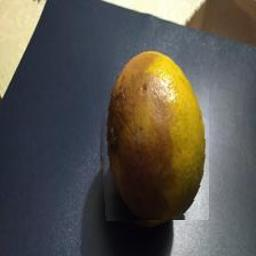Orange Semirotten: (94, 44, 209, 222)
